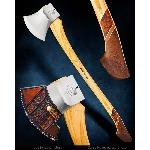Kapak: (21, 1, 133, 143)
